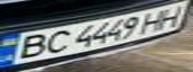4: (106, 16, 130, 43), (72, 23, 96, 48), (93, 19, 115, 46)
9: (118, 14, 148, 39)
B: (3, 32, 54, 61)
C: (36, 28, 75, 56)
H: (151, 2, 193, 32), (136, 8, 175, 34)
